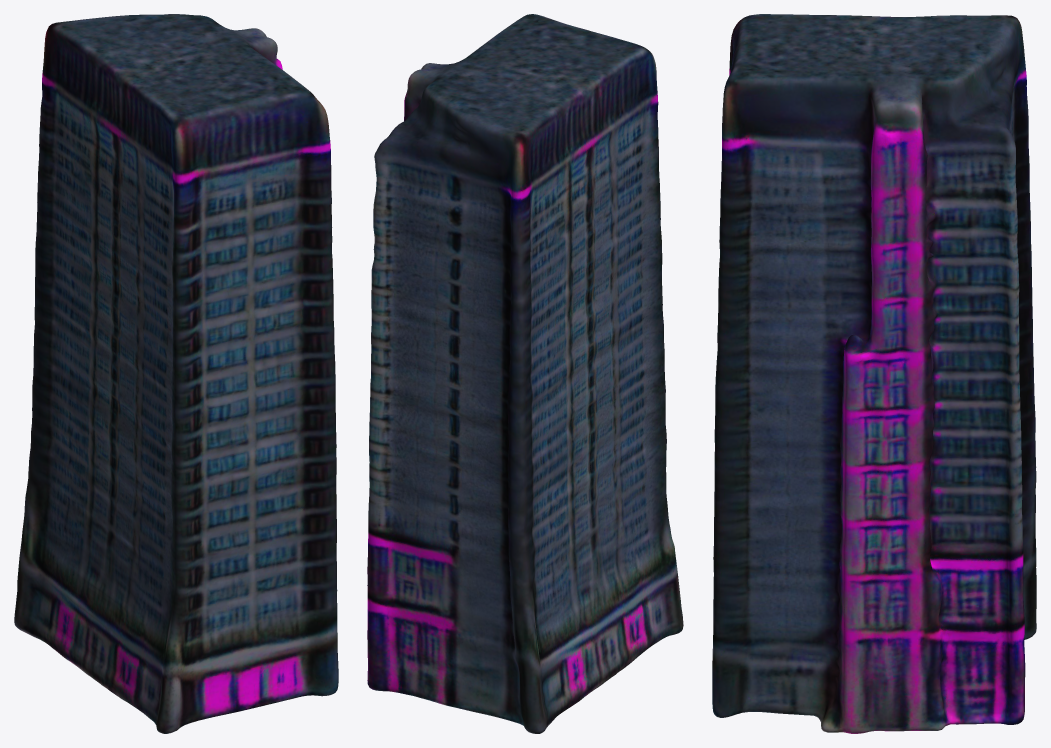
File: 9cf0b8c02180_a_tall__minimalist_futuristic_sk.glb
3 views of the same model, side by side, from view 1: azimuth 30°, elevation 25°; view 2: azimuth 150°, elevation 25°; view 3: azimuth 270°, elevation 25° (orthographic). The views are drawn at different scales.
Visible parts, largest first — view 1: geometry_0; view 2: geometry_0; view 3: geometry_0.
Boxes of the visible parts, box(x1,y1,x2,y2) form: geometry_0: box(14, 14, 338, 733); geometry_0: box(367, 14, 683, 733); geometry_0: box(712, 14, 1036, 733).
Size of the model in its own units: 0.1837 by 0.5269 by 0.2437.
Materials: 1 (1 with a texture image).
